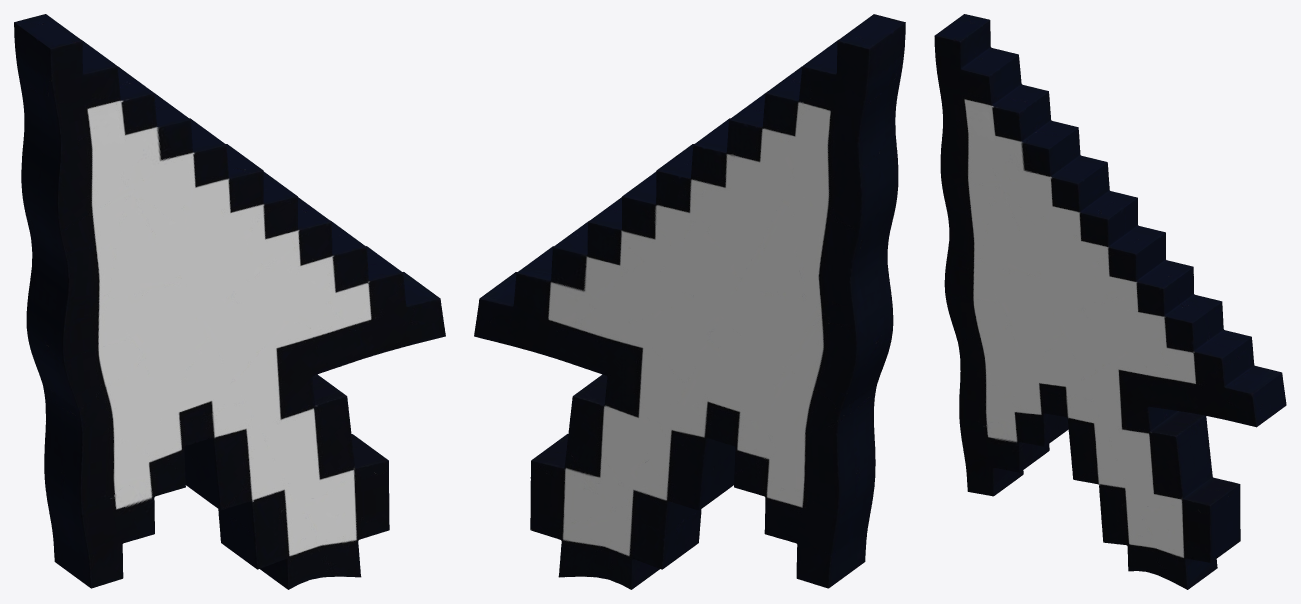
The model's file is cursor.glb.
3 views of the same model, side by side, from view 1: azimuth 30°, elevation 25°; view 2: azimuth 150°, elevation 25°; view 3: azimuth 330°, elevation 25° (orthographic). The views are drawn at different scales.
Bounding box in the file's own units: 1.3 × 1.9 × 0.209.
Materials: 1 (1 with a texture image).
